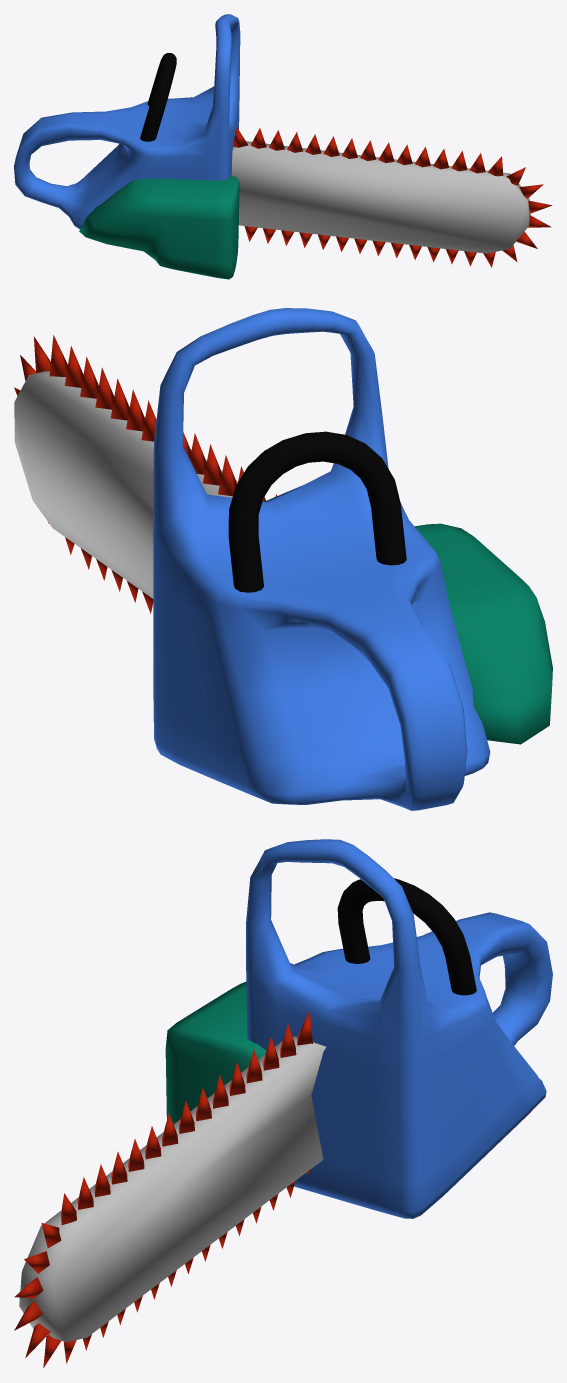
The model's file is chainsaw1.glb.
3 views of the same model, one above another, from view 1: azimuth 30°, elevation 25°; view 2: azimuth 150°, elevation 25°; view 3: azimuth 270°, elevation 25° (orthographic). The views are drawn at different scales.
Visible parts, largest first — view 1: Blade, Chainsaw, Cube, Tooth, BézierCurve; view 2: Chainsaw, Blade, Cube, BézierCurve, Tooth; view 3: Chainsaw, Blade, Tooth, Cube, BézierCurve.
Part boxes in pixels (x1,y1,x2,y2): Blade: (231,141,530,253); Chainsaw: (14,14,240,228); Cube: (79,176,239,279); Tooth: (233,127,552,267); BézierCurve: (140,53,176,141); Chainsaw: (153,308,490,810); Blade: (14,371,237,598); Cube: (415,523,552,744); BézierCurve: (228,431,406,592); Tooth: (14,335,276,613); Chainsaw: (246,839,552,1218); Blade: (19,1036,326,1341); Tooth: (14,1010,312,1367); Cube: (165,982,266,1124); BézierCurve: (337,878,476,995).
Bounding box in the file's own units: 0.8218 × 0.4715 × 0.6137.
